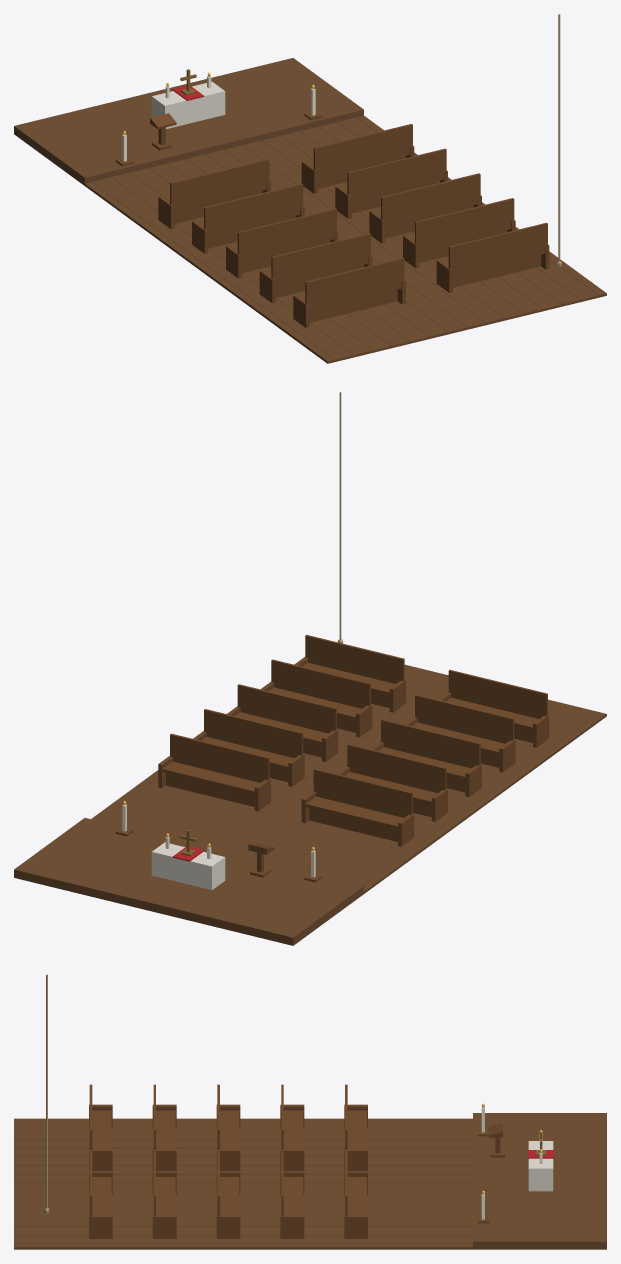
The model's file is church_interior.fbx.
3 renders of one model, top to bottom at view 1: azimuth 30°, elevation 25°; view 2: azimuth 150°, elevation 25°; view 3: azimuth 270°, elevation 25°, orthographic. The views are drawn at different scales.
Visible parts, largest first — view 1: Church_Floor, Church_Pew, Church_Altar, Church_Rope; view 2: Church_Pew, Church_Floor, Church_Altar, Church_Rope; view 3: Church_Floor, Church_Pew, Church_Altar, Church_Rope.
Boxes of the visible parts, x1,y1,x2,y2 form: Church_Floor: (14, 58, 606, 363); Church_Pew: (115, 111, 549, 327); Church_Altar: (151, 81, 225, 128); Church_Rope: (556, 14, 561, 267); Church_Pew: (115, 634, 549, 882); Church_Floor: (14, 664, 606, 945); Church_Altar: (151, 842, 225, 889); Church_Rope: (338, 392, 342, 643); Church_Floor: (14, 1113, 606, 1249); Church_Pew: (89, 1084, 504, 1238); Church_Altar: (528, 1141, 553, 1191); Church_Rope: (44, 974, 49, 1214).
Bounding box in the file's own units: 29.6 × 27.94 × 57.6.
